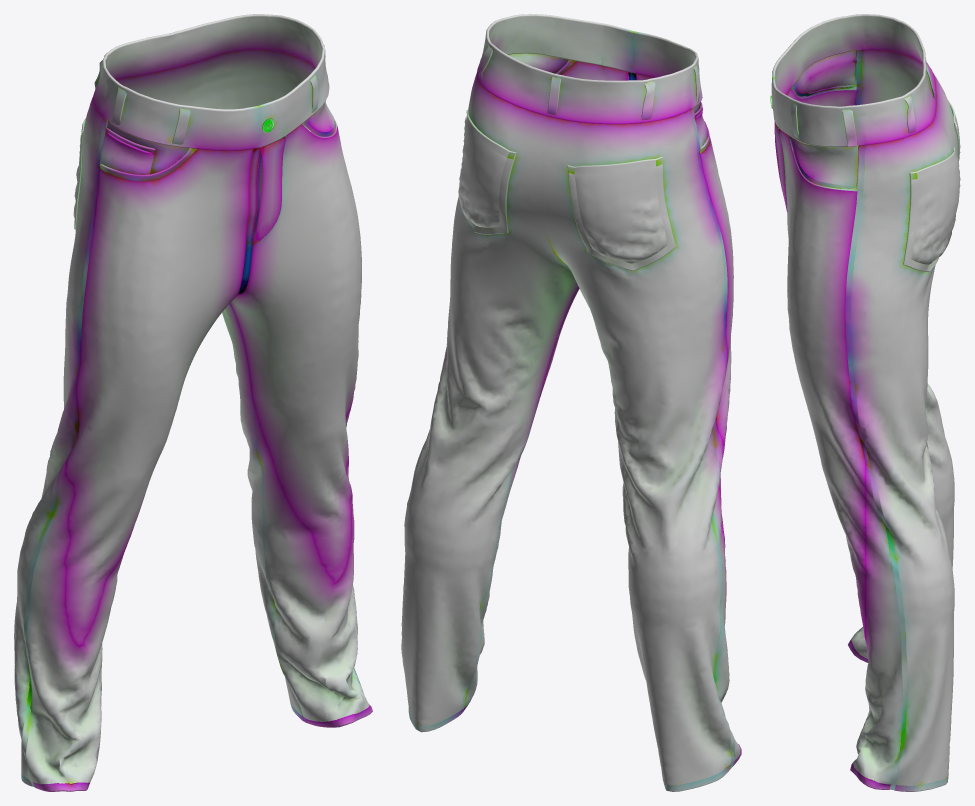
File: slimjeans.glb
3 renders of one model, left to right at view 1: azimuth 30°, elevation 25°; view 2: azimuth 150°, elevation 25°; view 3: azimuth 270°, elevation 25°, orthographic. The views are drawn at different scales.
Parts seen in each view (by area): view 1: front, back, waistband, pockets; view 2: back, waistband, pockets, front; view 3: back, front, waistband, pockets.
Boxes of the visible parts, x1,y1,x2,y2 form: front: (48,124,369,783); back: (14,49,369,787); waistband: (93,14,329,154); pockets: (21,69,372,791); back: (401,73,740,785); waistband: (476,14,702,124); pockets: (408,53,741,791); front: (539,61,733,534); back: (845,50,958,790); front: (779,89,865,776); waistband: (771,14,936,147); pockets: (774,50,960,791).
Bounding box in the file's own units: 0.5049 × 1.03 × 0.2665.
